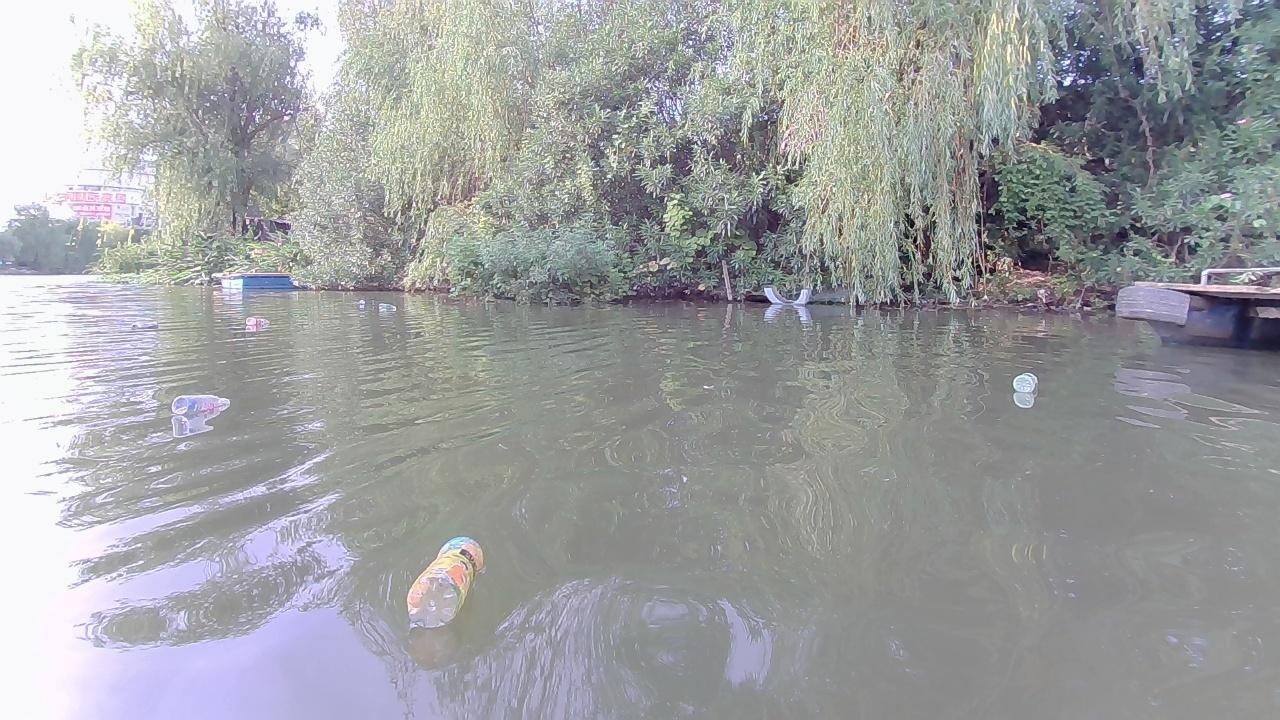bottle: (395, 533, 487, 623), (168, 391, 232, 414), (1012, 371, 1037, 395), (243, 316, 271, 331), (377, 304, 392, 311)
